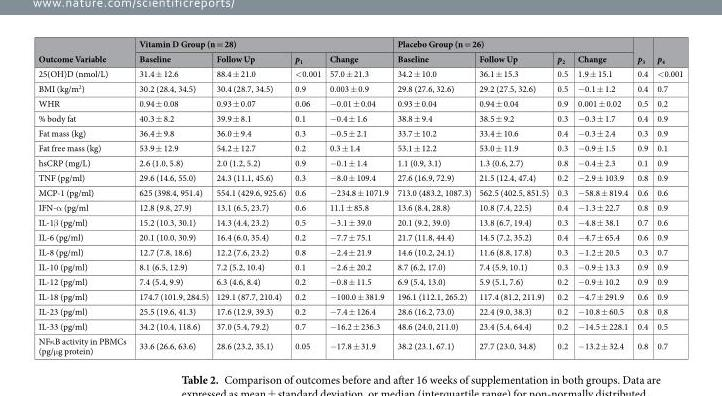table: (37, 37, 682, 356)
table column: (37, 37, 132, 356), (392, 37, 474, 356), (132, 37, 211, 356), (211, 37, 289, 356), (474, 37, 552, 356), (324, 37, 392, 356), (572, 37, 632, 356), (289, 37, 324, 356), (651, 37, 682, 356), (552, 37, 572, 356), (632, 37, 651, 356)
table column header: (37, 37, 682, 66)
table row: (37, 333, 682, 356), (37, 50, 682, 66), (37, 80, 682, 95), (37, 95, 682, 110), (37, 110, 682, 125), (37, 125, 682, 140), (37, 154, 682, 169), (37, 169, 682, 184), (37, 184, 682, 199), (37, 199, 682, 214), (37, 214, 682, 229), (37, 229, 682, 244), (37, 244, 682, 259), (37, 273, 682, 288), (37, 288, 682, 303), (37, 303, 682, 318), (37, 318, 682, 333), (37, 66, 682, 80), (37, 140, 682, 154), (37, 259, 682, 273), (37, 37, 682, 50)
table spanning cell: (132, 37, 392, 50), (392, 37, 632, 50), (37, 37, 132, 66), (651, 37, 682, 66), (632, 37, 651, 66)
